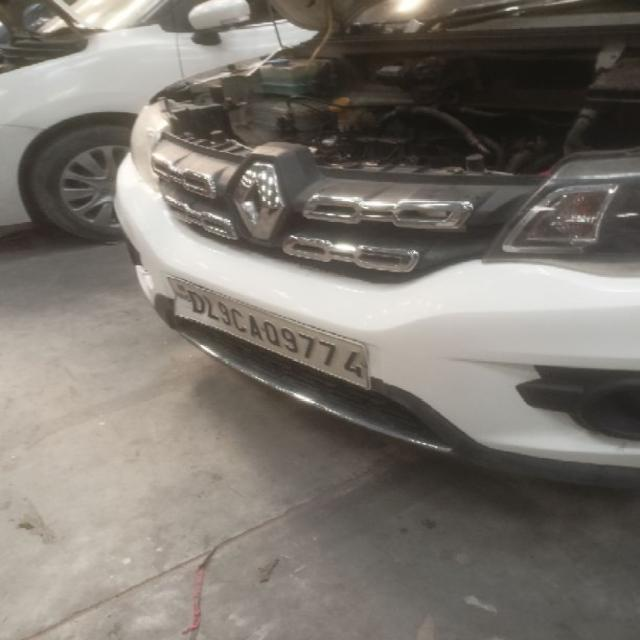license_plate: (164, 274, 372, 391)
